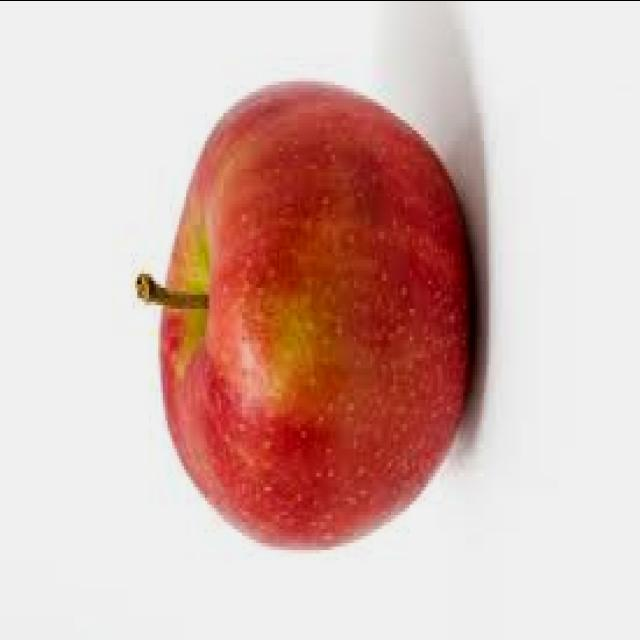non_orange: (103, 62, 518, 570)
